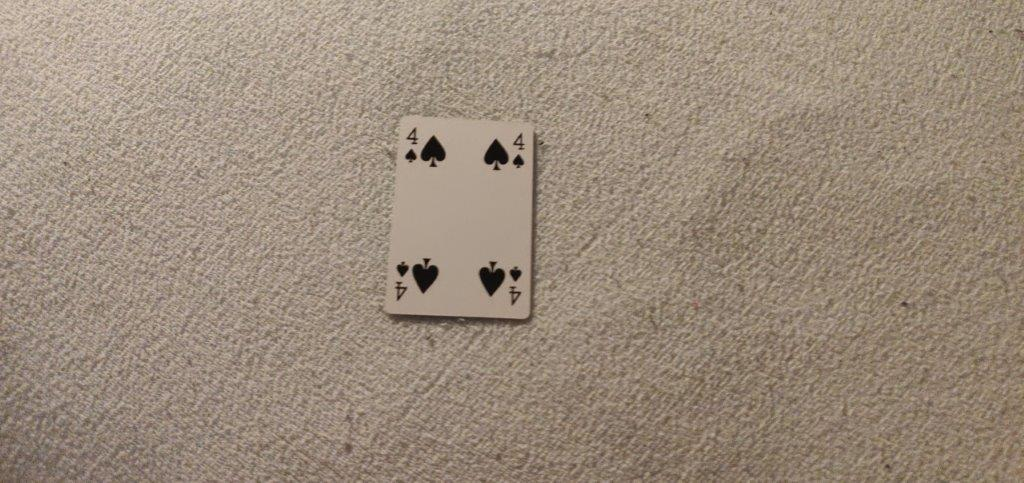4S: (401, 125, 420, 168), (511, 130, 529, 173)
